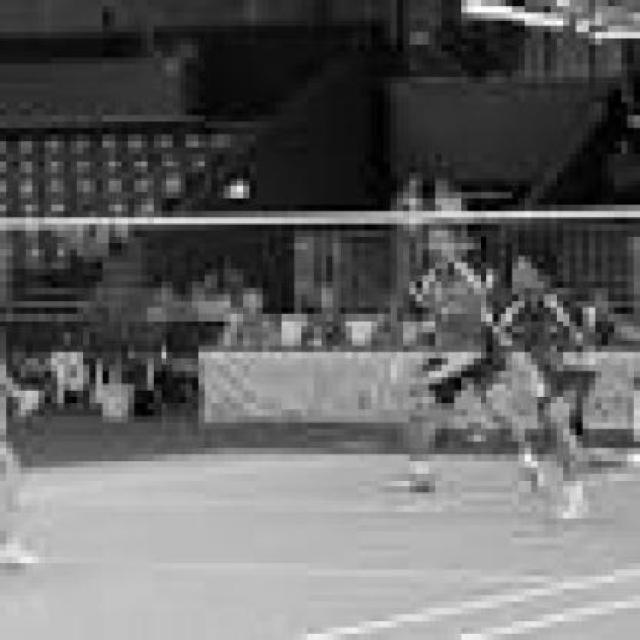Shuttlecock: (226, 178, 248, 200)
